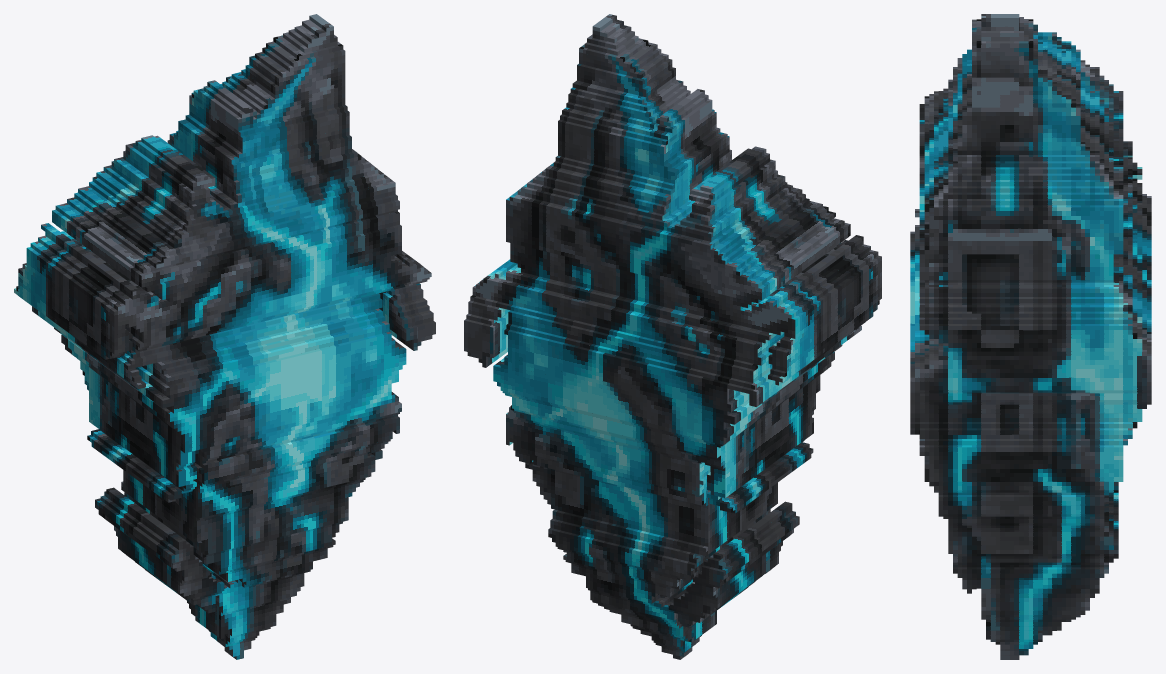
The model's file is relic-core-fragment.glb.
The picture shows the model from 3 angles, left to right: view 1: azimuth 30°, elevation 25°; view 2: azimuth 150°, elevation 25°; view 3: azimuth 270°, elevation 25°; orthographic projection. The views are drawn at different scales.
Visible parts, largest first — view 1: relic-core-fragment_voxels; view 2: relic-core-fragment_voxels; view 3: relic-core-fragment_voxels.
Part boxes in pixels (x1=…): relic-core-fragment_voxels: x1=14, y1=14, x2=435, y2=659; relic-core-fragment_voxels: x1=464, y1=14, x2=881, y2=659; relic-core-fragment_voxels: x1=910, y1=14, x2=1151, y2=659.
Size of the model in its own units: 0.5375 by 1 by 0.3187.
Materials: 1 (1 with a texture image).
